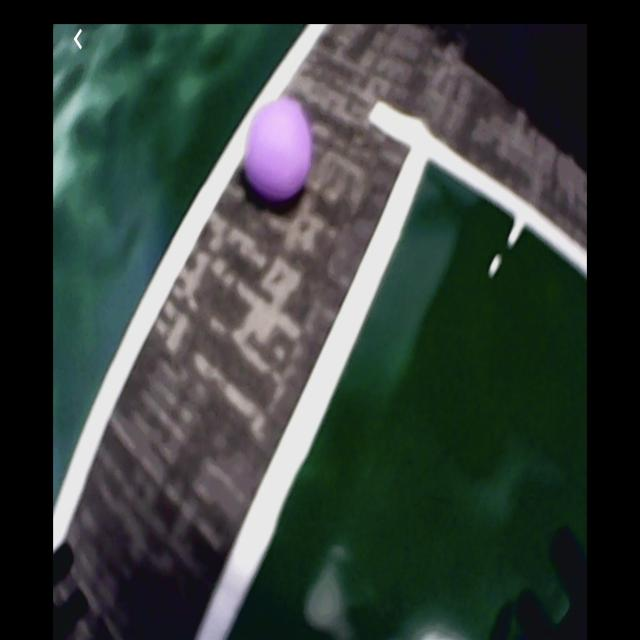ball: (246, 98, 313, 202)
